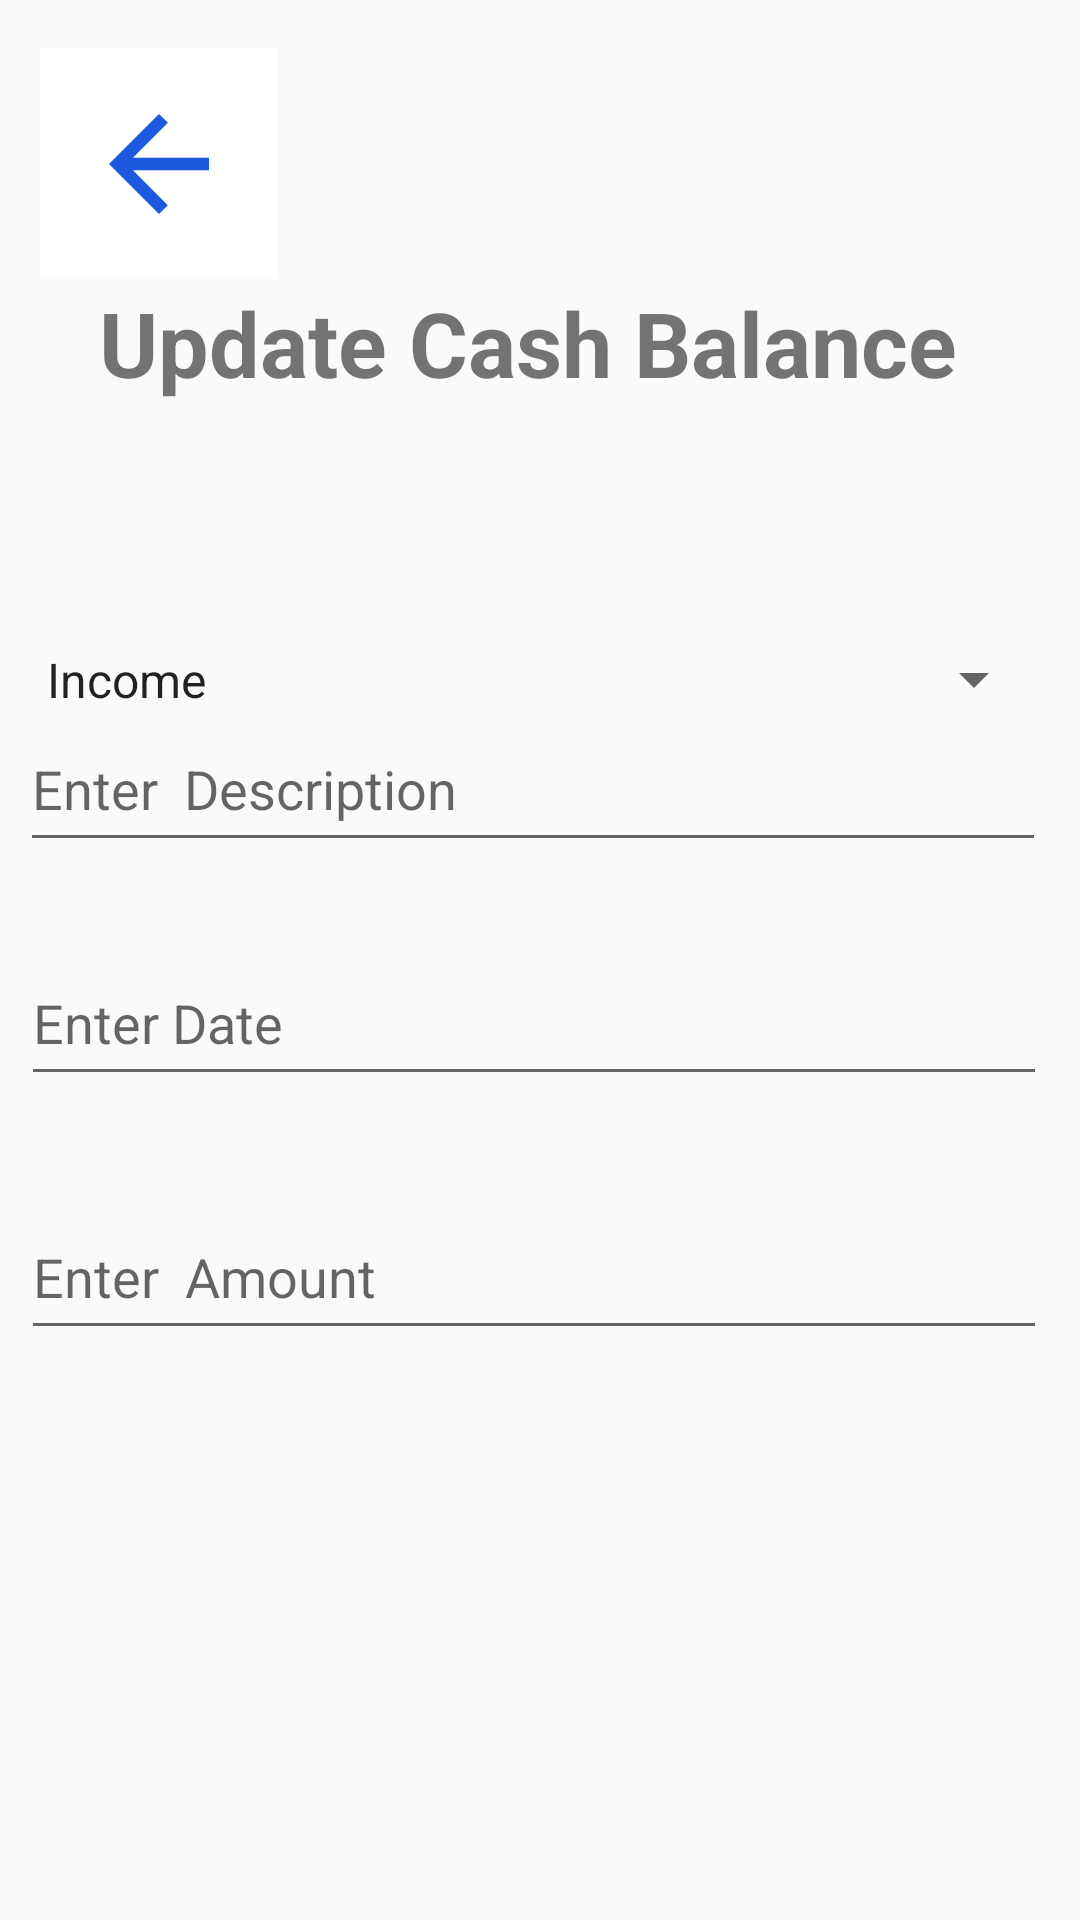

Locate icon controls on the screen. Image size 1080 × 1920, boxes as bbox=(x1, y1, x2, y2).
Go Back: bbox=(109, 114, 209, 214)
